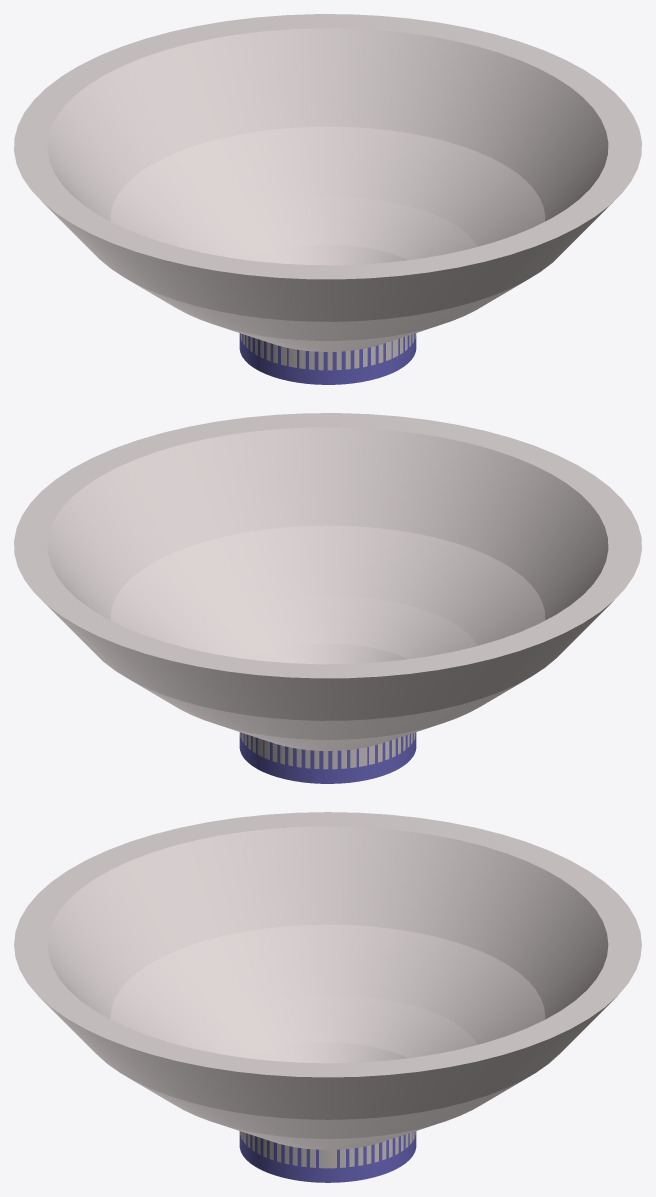
3 renders of one model, top to bottom at view 1: azimuth 30°, elevation 25°; view 2: azimuth 150°, elevation 25°; view 3: azimuth 270°, elevation 25°, orthographic.
Visible parts, largest first — view 1: bowl; view 2: bowl; view 3: bowl.
Boxes of the visible parts, bbox=[...] form: bowl: bbox=[14, 14, 641, 384]; bowl: bbox=[14, 413, 641, 783]; bowl: bbox=[14, 812, 641, 1182].
Bounding box in the file's own units: 0.2486 × 0.0877 × 0.2486.
